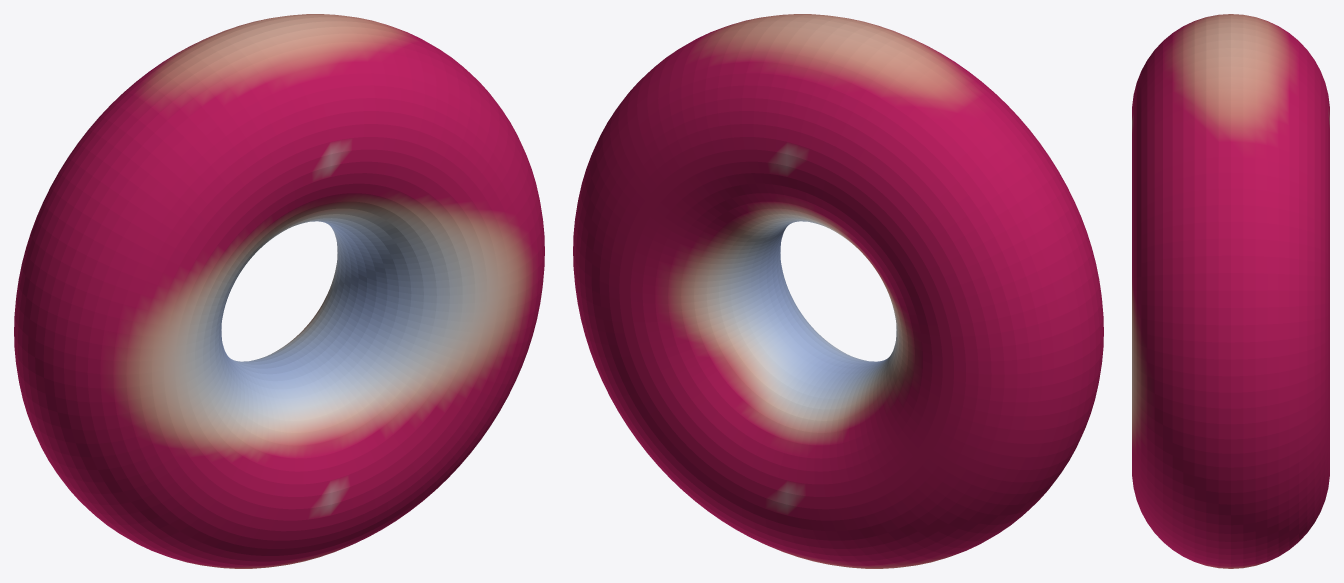
The picture shows the model from 3 angles, left to right: view 1: azimuth 30°, elevation 25°; view 2: azimuth 150°, elevation 25°; view 3: azimuth 270°, elevation 25°; orthographic projection. The views are drawn at different scales.
Visible parts, largest first — view 1: world; view 2: world; view 3: world.
Boxes of the visible parts, x1,y1,x2,y2 form: world: [14, 14, 544, 568]; world: [573, 14, 1103, 568]; world: [1132, 14, 1329, 568].
Size of the model in its own units: 28 by 28 by 9.98.
